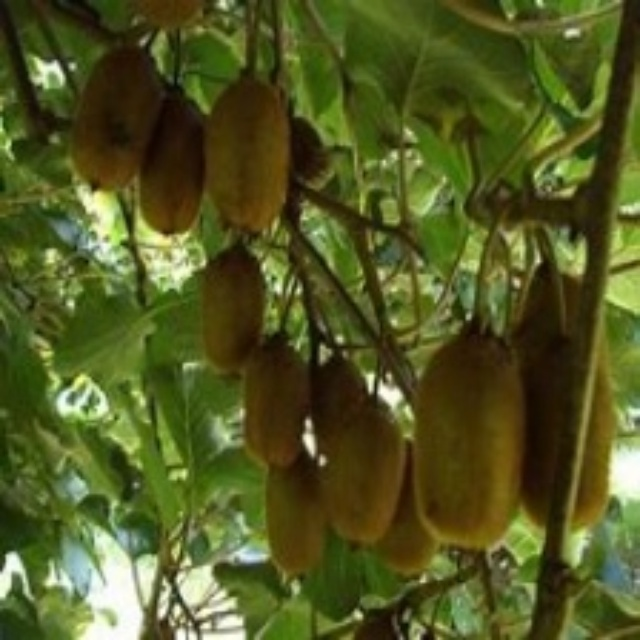kiwi: (406, 305, 528, 557), (522, 264, 626, 541), (60, 45, 209, 238), (304, 367, 428, 576), (200, 72, 296, 245), (184, 234, 276, 377), (239, 335, 312, 468)
